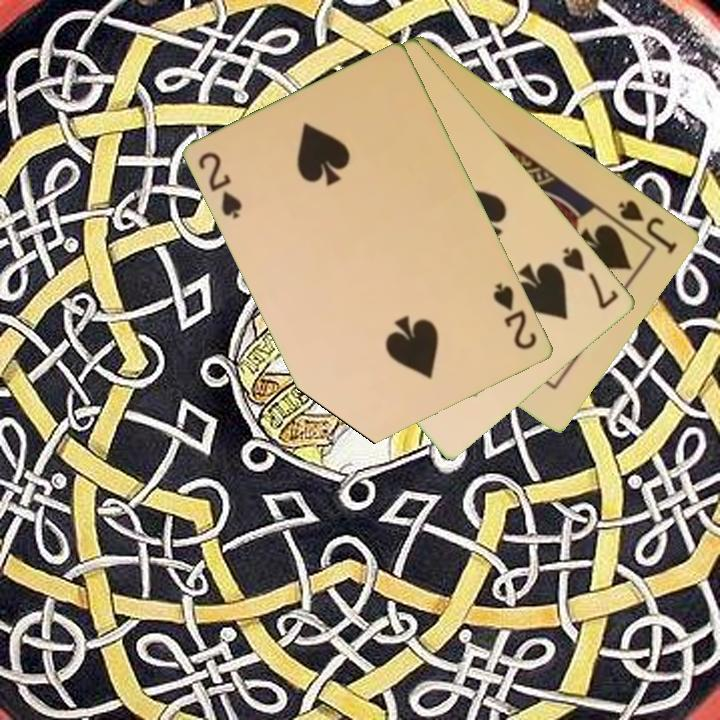2s: (489, 279, 541, 353), (195, 148, 246, 222)
7s: (559, 243, 622, 312)
Js: (615, 196, 681, 257)
